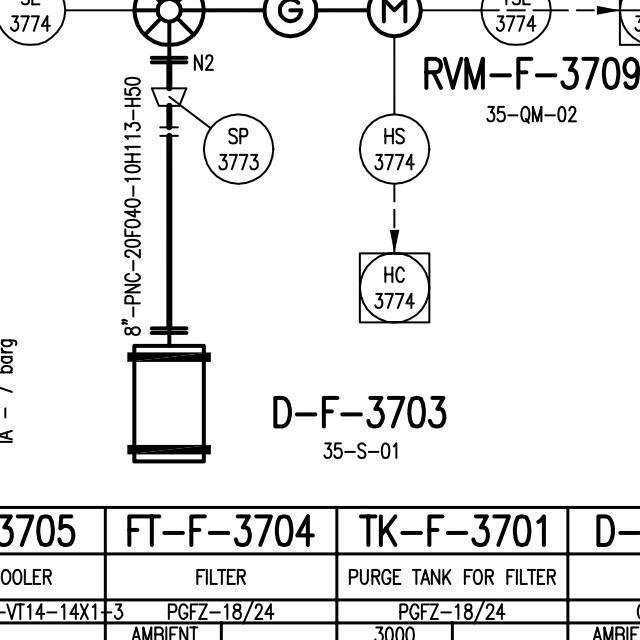D2: (122, 339, 217, 466)
RVM: (262, 0, 422, 41)
SP: (147, 80, 190, 109)
